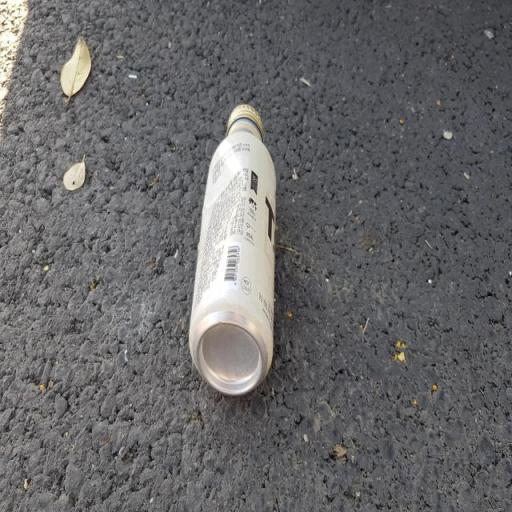metal: (172, 86, 297, 414)
